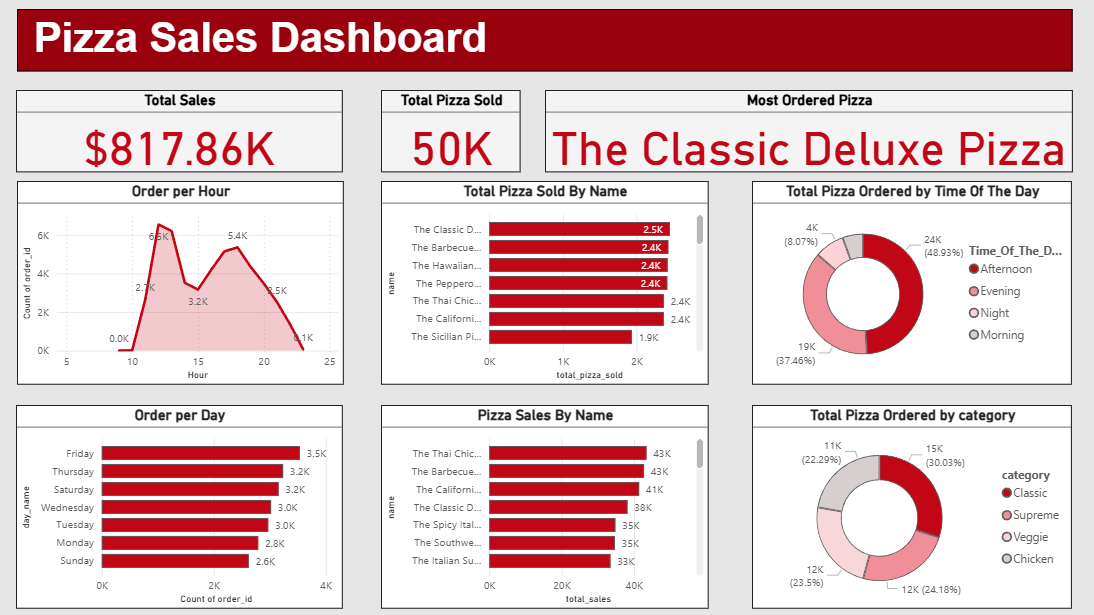

The dashboard page shown, as its layout file describes it:
{"tool":"powerbi","page":{"name":"Page 1","canvas":[1280,720],"ordinal":0},"visuals":[{"type":"lineChart","title":"Order per Hour","fields":{"Category":["orders.Hour"],"Y":["CountNonNull(order_details.order_id)"]},"box":[30.6,214,376.6,234.8],"z":0},{"type":"barChart","title":"Order per Day","fields":{"Category":["orders.day_name"],"Y":["CountNonNull(orders.order_id)"]},"box":[29.3,472,376.6,234.8],"z":1000},{"type":"card","title":"Total Sales","fields":{"Values":["pizzas.total_sales"]},"box":[29.3,108.8,376.6,95.4],"z":2000},{"type":"card","title":"Total Pizza Sold","fields":{"Values":["order_details.total_pizza_sold"]},"box":[450,108.8,161.4,95.4],"z":3000},{"type":"barChart","title":"Total Pizza Sold By Name","fields":{"Category":["pizza_types.name"],"Y":["order_details.total_pizza_sold"]},"box":[450,214,377.9,234.8],"z":4000},{"type":"card","title":"Most Ordered Pizza","fields":{"Values":["pizzas.most_ordered_pizza"]},"box":[639.5,108.8,609,95.4],"z":5000},{"type":"barChart","title":"Pizza Sales By Name","fields":{"Category":["pizza_types.name"],"Y":["pizzas.total_sales"]},"box":[450,472,377.9,234.8],"z":6000},{"type":"donutChart","title":"Total Pizza Ordered by Time Of The Day","fields":{"Category":["orders.Time_Of_The_Day"],"Y":["order_details.Total_Pizza_Ordered"]},"box":[878,214,369.3,234.8],"z":7000},{"type":"donutChart","title":"Total Pizza Ordered by category","fields":{"Category":["pizza_types.category"],"Y":["order_details.Total_Pizza_Ordered"]},"box":[878,472,369.3,234.8],"z":8000},{"type":"textbox","box":[30.6,14.7,1217.9,72.1],"z":9000}]}

Visuals, with their boxes in screenshot pixels (x1, y1, x2, y2), scaled from the page's 1280x720 canvas onto the 1094x615 screenshot:
"Order per Hour" lineChart: Rect(26, 183, 348, 383)
"Order per Day" barChart: Rect(25, 403, 347, 604)
"Total Sales" card: Rect(25, 93, 347, 174)
"Total Pizza Sold" card: Rect(385, 93, 523, 174)
"Total Pizza Sold By Name" barChart: Rect(385, 183, 708, 383)
"Most Ordered Pizza" card: Rect(547, 93, 1067, 174)
"Pizza Sales By Name" barChart: Rect(385, 403, 708, 604)
"Total Pizza Ordered by Time Of The Day" donutChart: Rect(750, 183, 1066, 383)
"Total Pizza Ordered by category" donutChart: Rect(750, 403, 1066, 604)
textbox: Rect(26, 13, 1067, 74)
